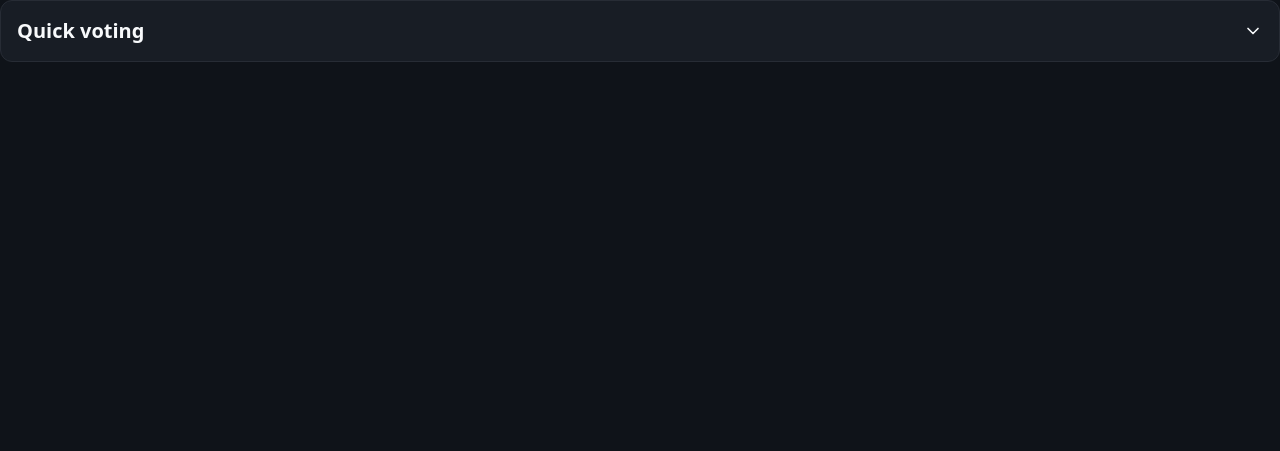
Test: QuickVotingPanel › shows full details and only five voting stars, and browses unrated proposals
Click the heading "Quick voting".
click(81, 30)  # box [17,17,1263,44]
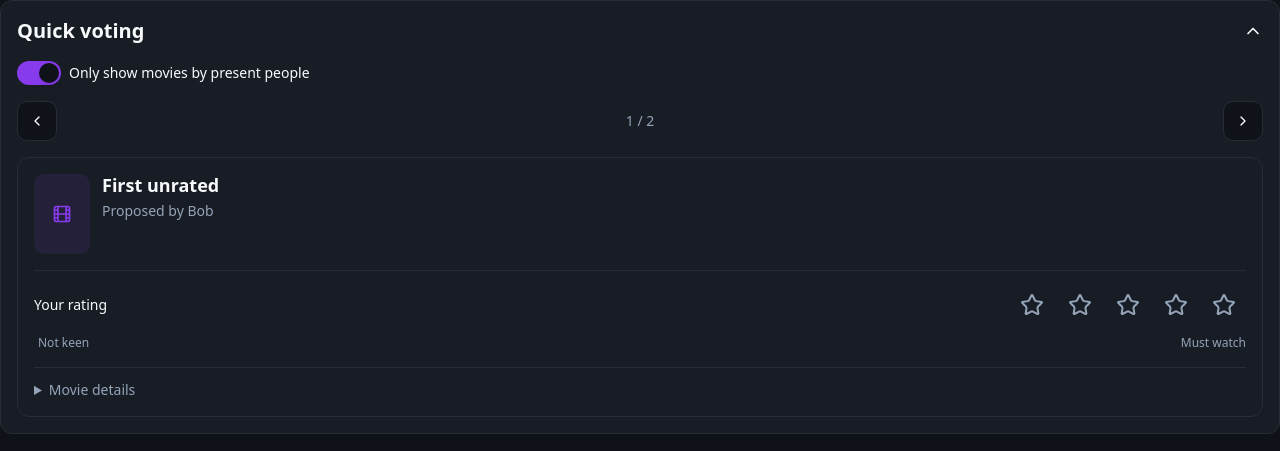
Check: the number of buttons named "Rate 1 star" is 5, box [1010,283,1054,327]; [1058,283,1102,327]; [1106,283,1150,327]; [1154,283,1198,327]; [1202,283,1246,327]
Click the button named "Previous proposal".
click(37, 121)  # box [17,101,57,141]
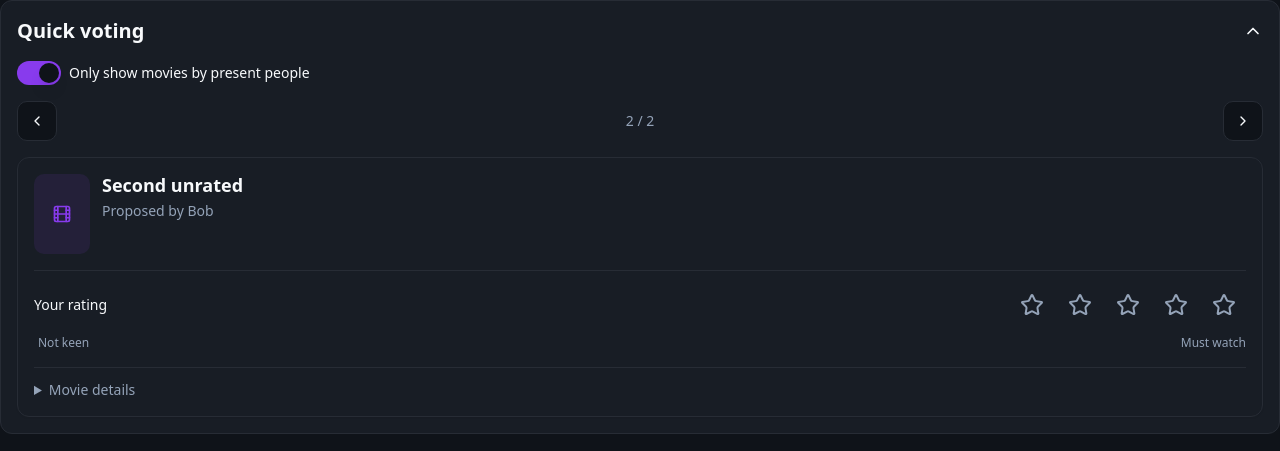
Check: the heading "Second unrated" is shown, box [102,174,243,196]
Click the button named "Next proposal".
click(1243, 121)  # box [1223,101,1263,141]
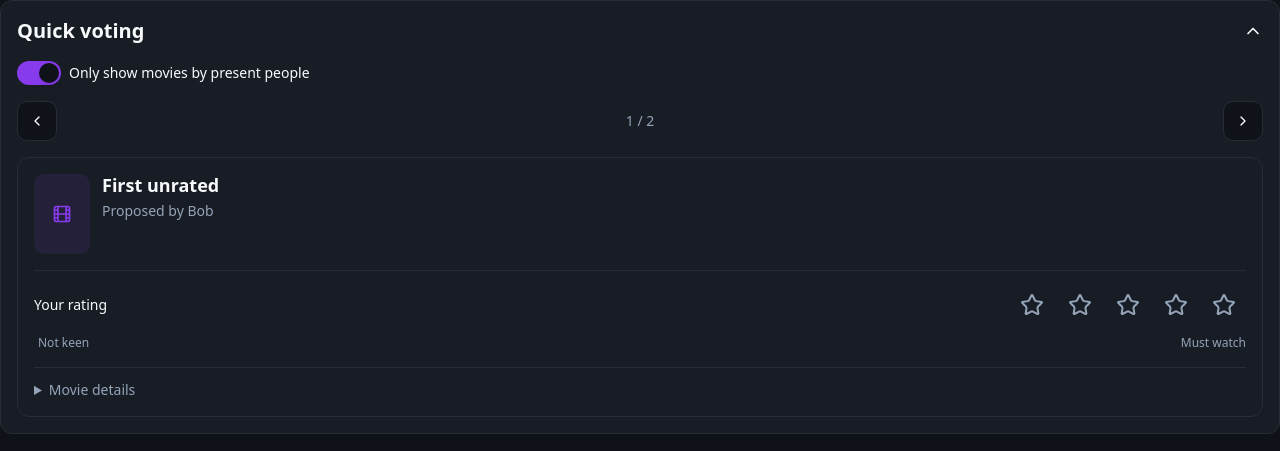
Check: the heading "First unrated" is shown, box [102,174,219,196]
